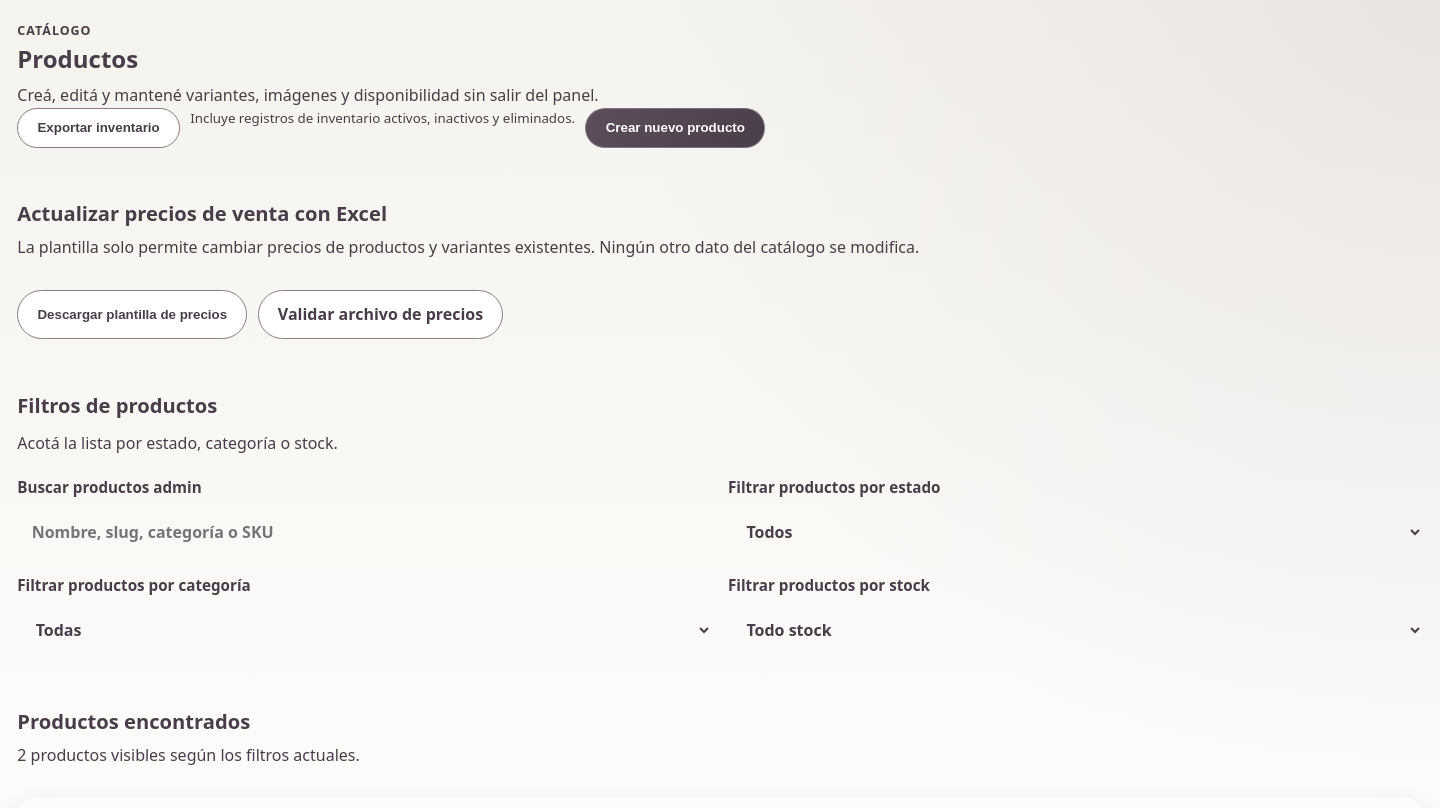
it: AdminProductsPage › shows product list actions first and keeps the create form hidden until requested
Check: the element "Básicos del producto" is not shown
Click the button "Crear nuevo producto".
click(675, 128)  # box [586,108,765,148]
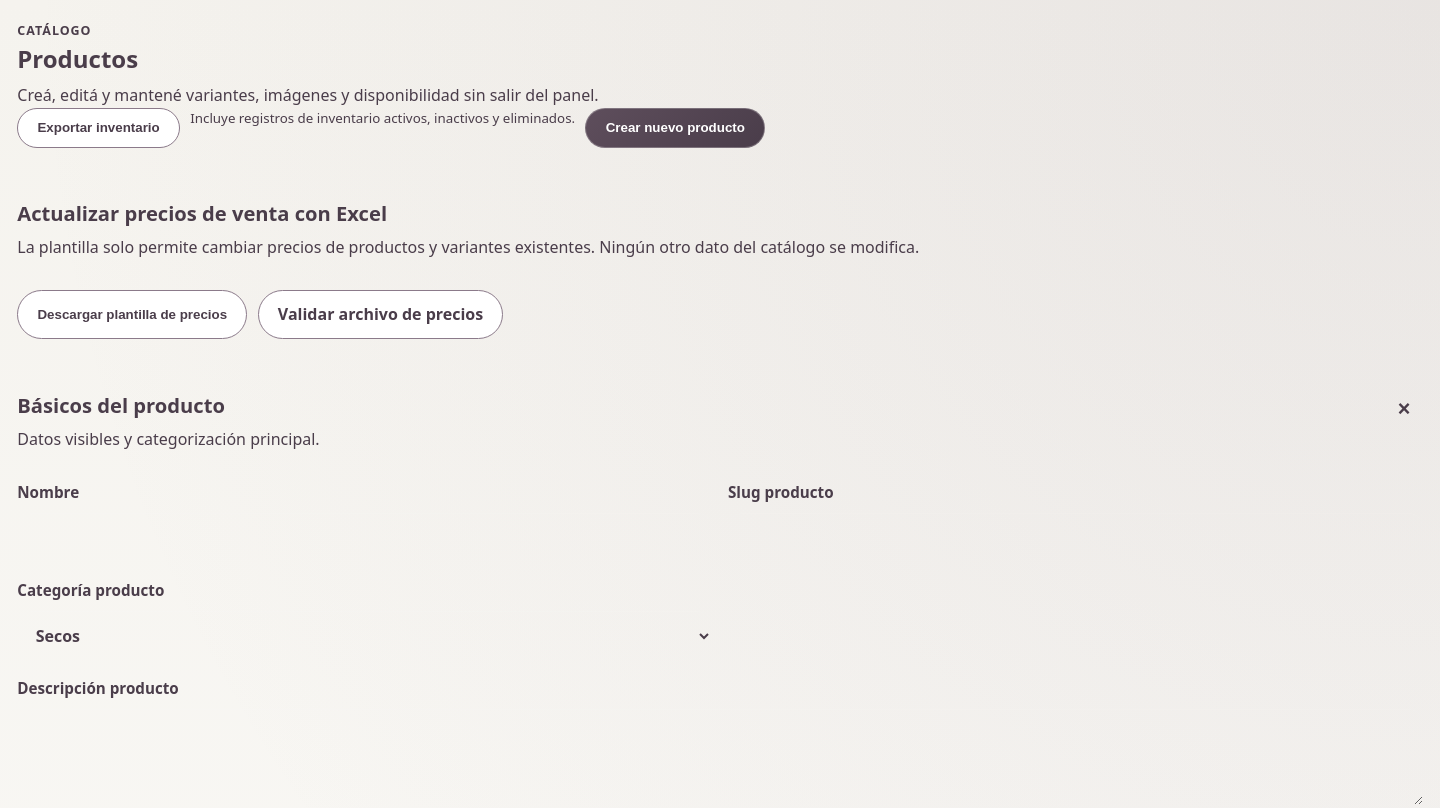
Click the button named "Cerrar creación de producto".
click(1404, 409)  # box [1385,390,1423,428]
(page scrolled)
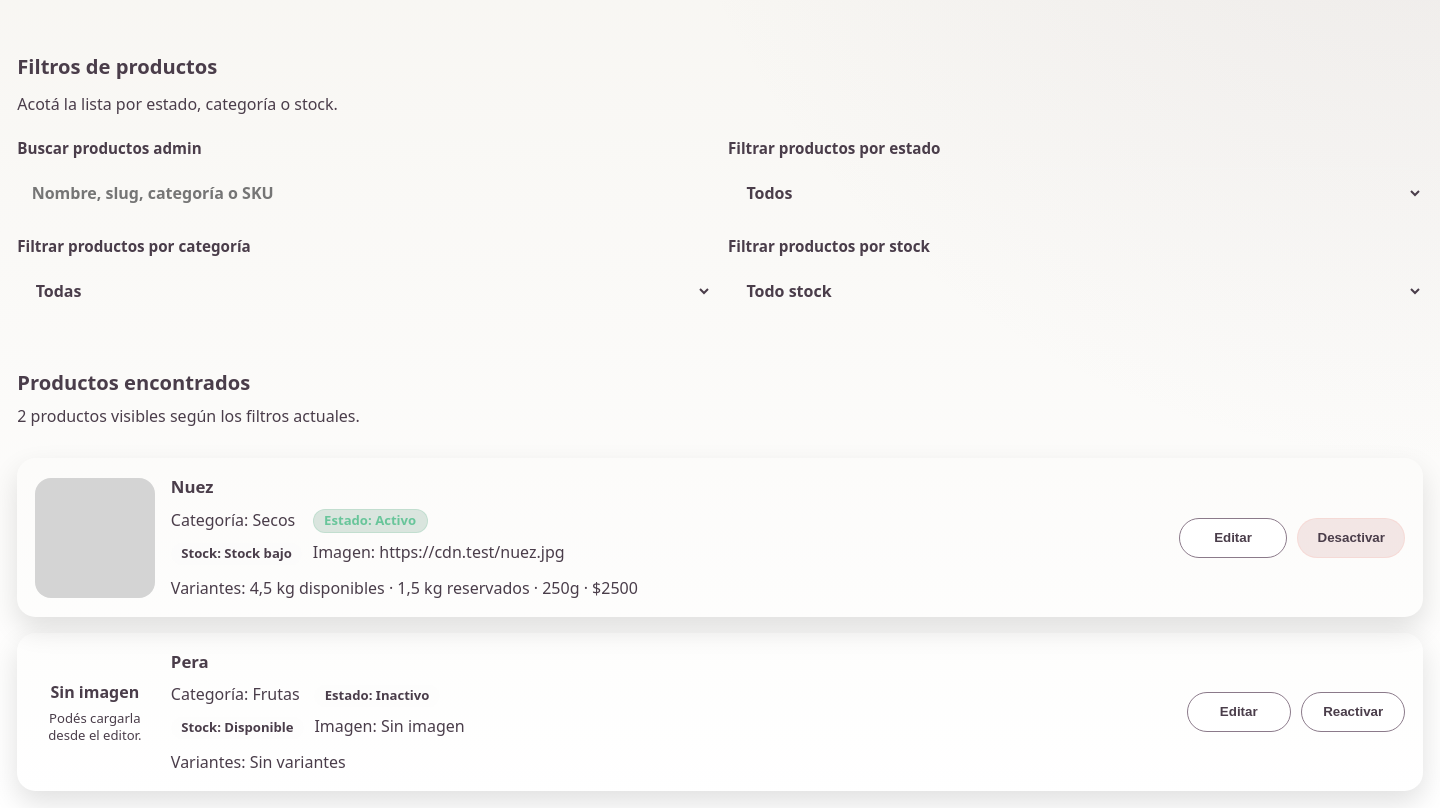
Check: the dropdown labelled "Filtrar productos por estado" is shown, box [728,168,1423,218]
Check: the heading "Básicos del producto" is gone
